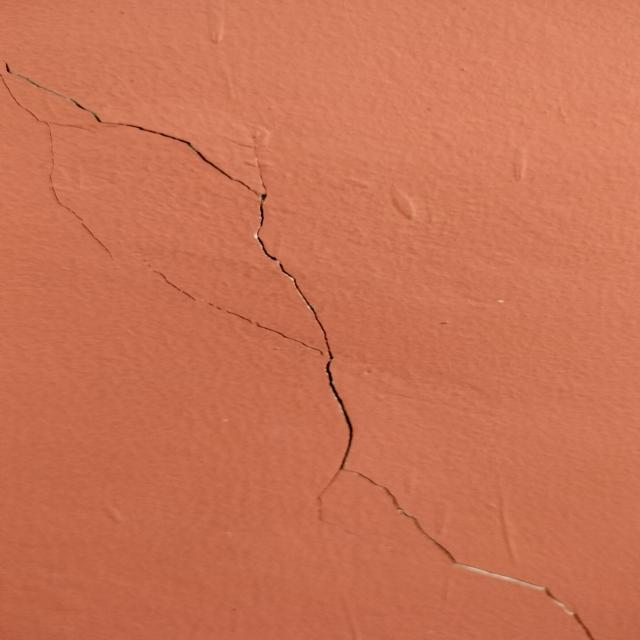Crack: (7, 63, 596, 639)
